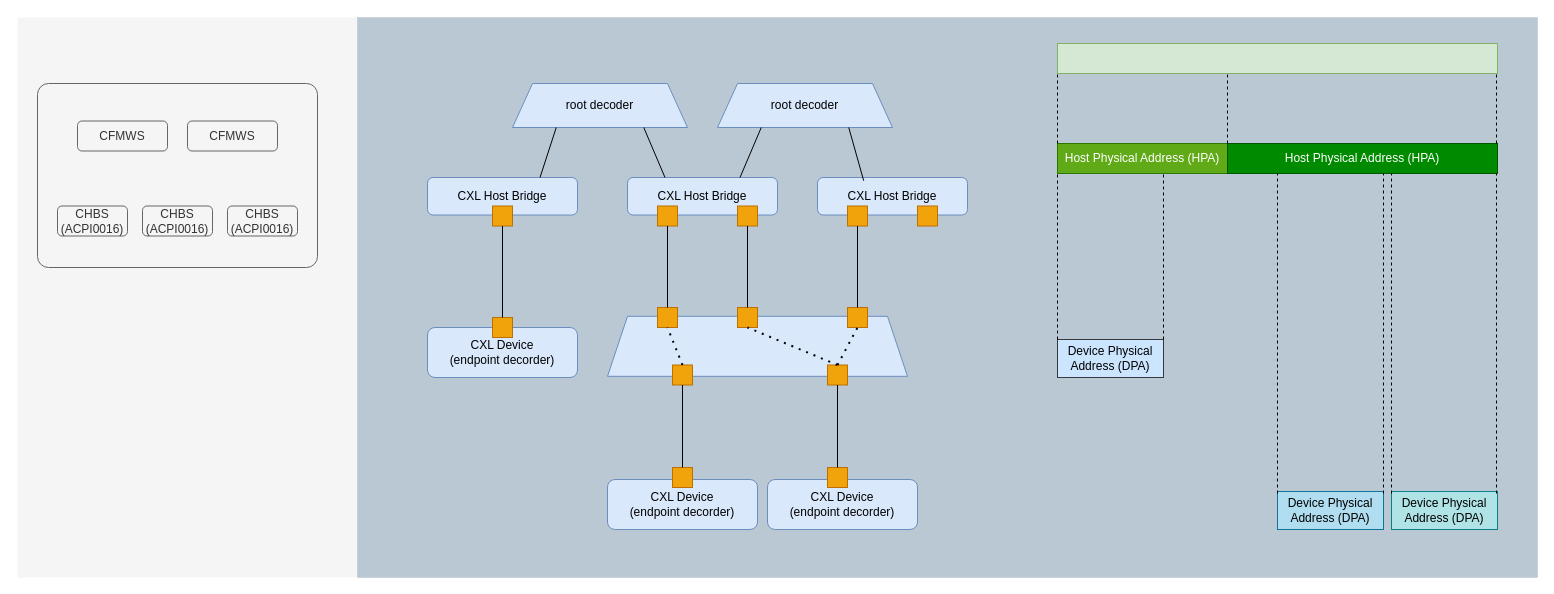
This 1554x594 diagram has some shape labels left out. The shapes that lost their labels are listed below. From the top down, each one's box as (x1, y1, x2, y2) in pixels, then its label:
(1056, 42, 1498, 74): System Physical Address (SPA)
(36, 82, 318, 268): CEDT(ACPI0017)
(606, 315, 908, 376): CXL Switch (switch decoder)
